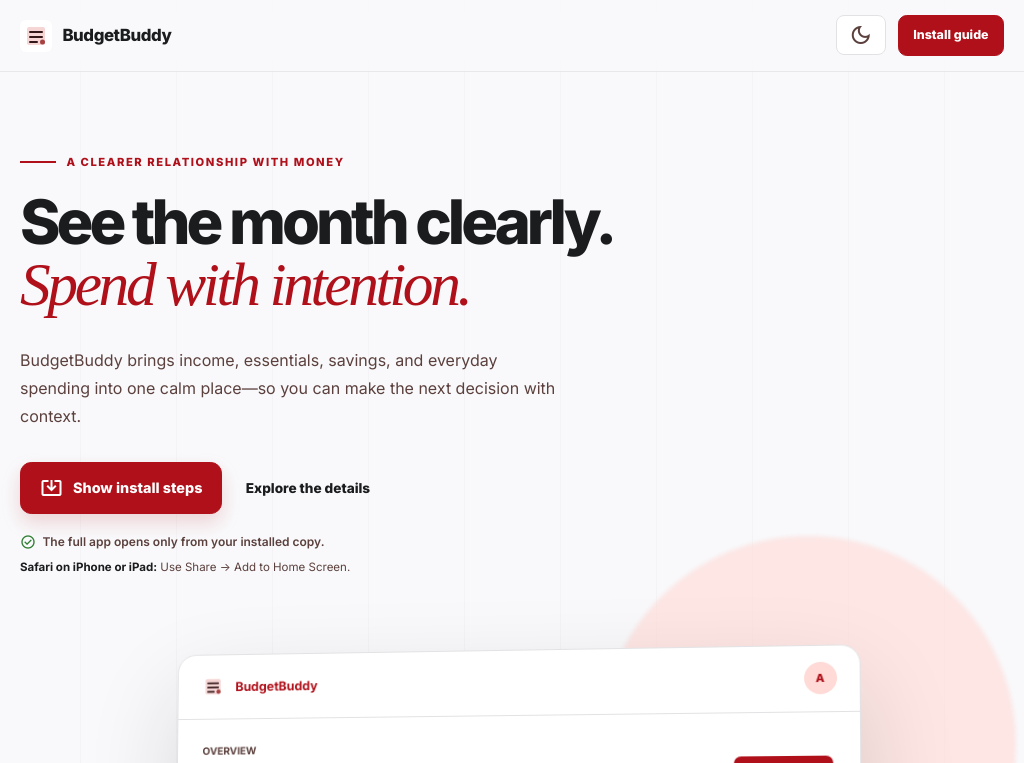
Test: LandingPage installation guidance › shows Safari's iPhone and iPad Home Screen steps
Click the button "Show install steps" at (121, 488), box [20, 462, 222, 514]
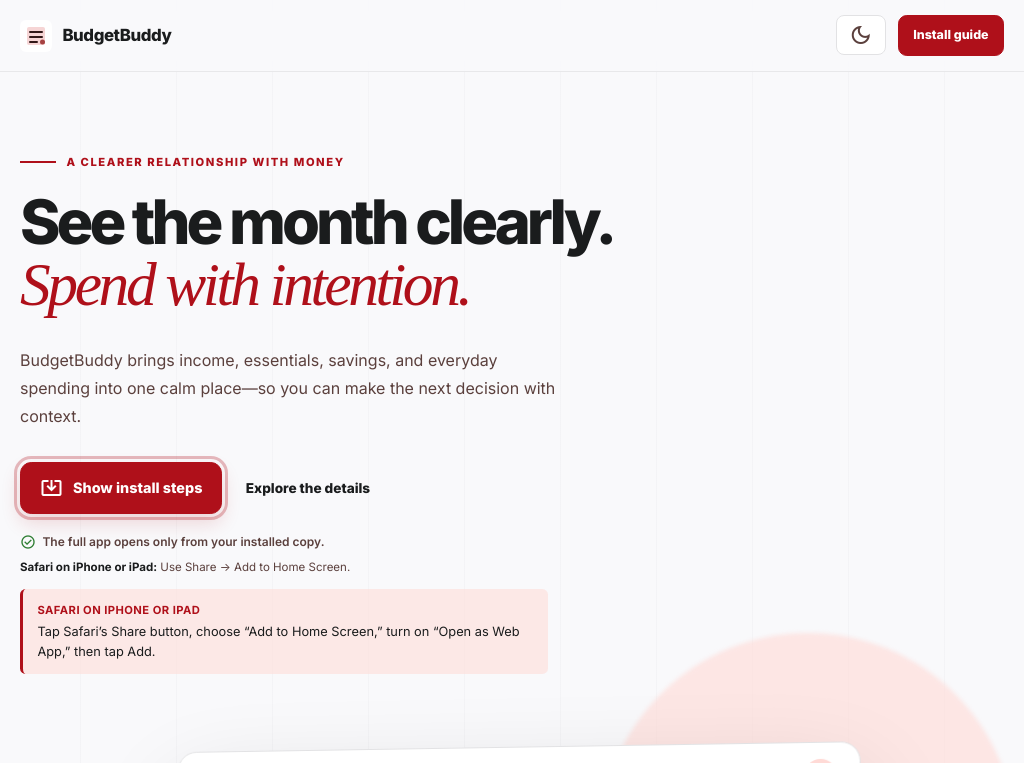
Expected: the text "Tap Safari’s Share button, choose “Add to Home Screen,” turn on “Open as Web App,” then tap Add." is shown, [37, 624, 520, 658]
